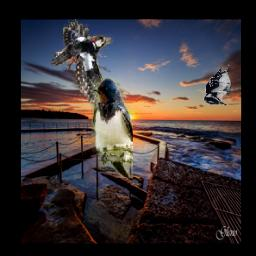Swallow: (91, 78, 133, 178)
Woodpecker: (52, 20, 118, 117), (204, 65, 233, 106)
